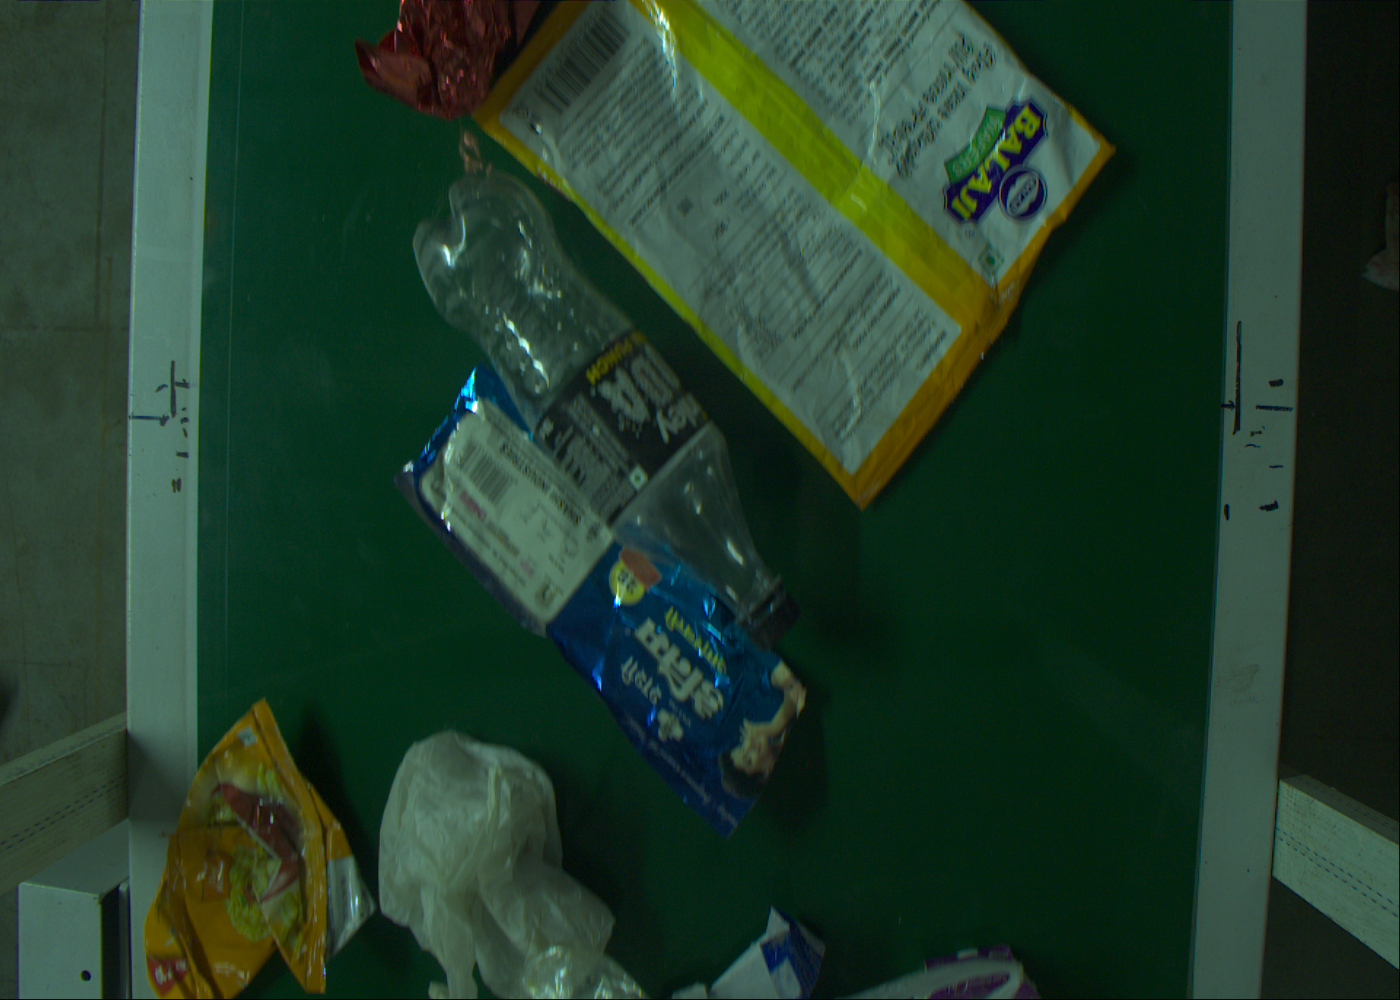multilayer_plastic: (457, 1, 1119, 455), (159, 709, 351, 994)
pet_bottle: (411, 171, 802, 652)
pp_w: (398, 408, 813, 827), (355, 1, 553, 117)
